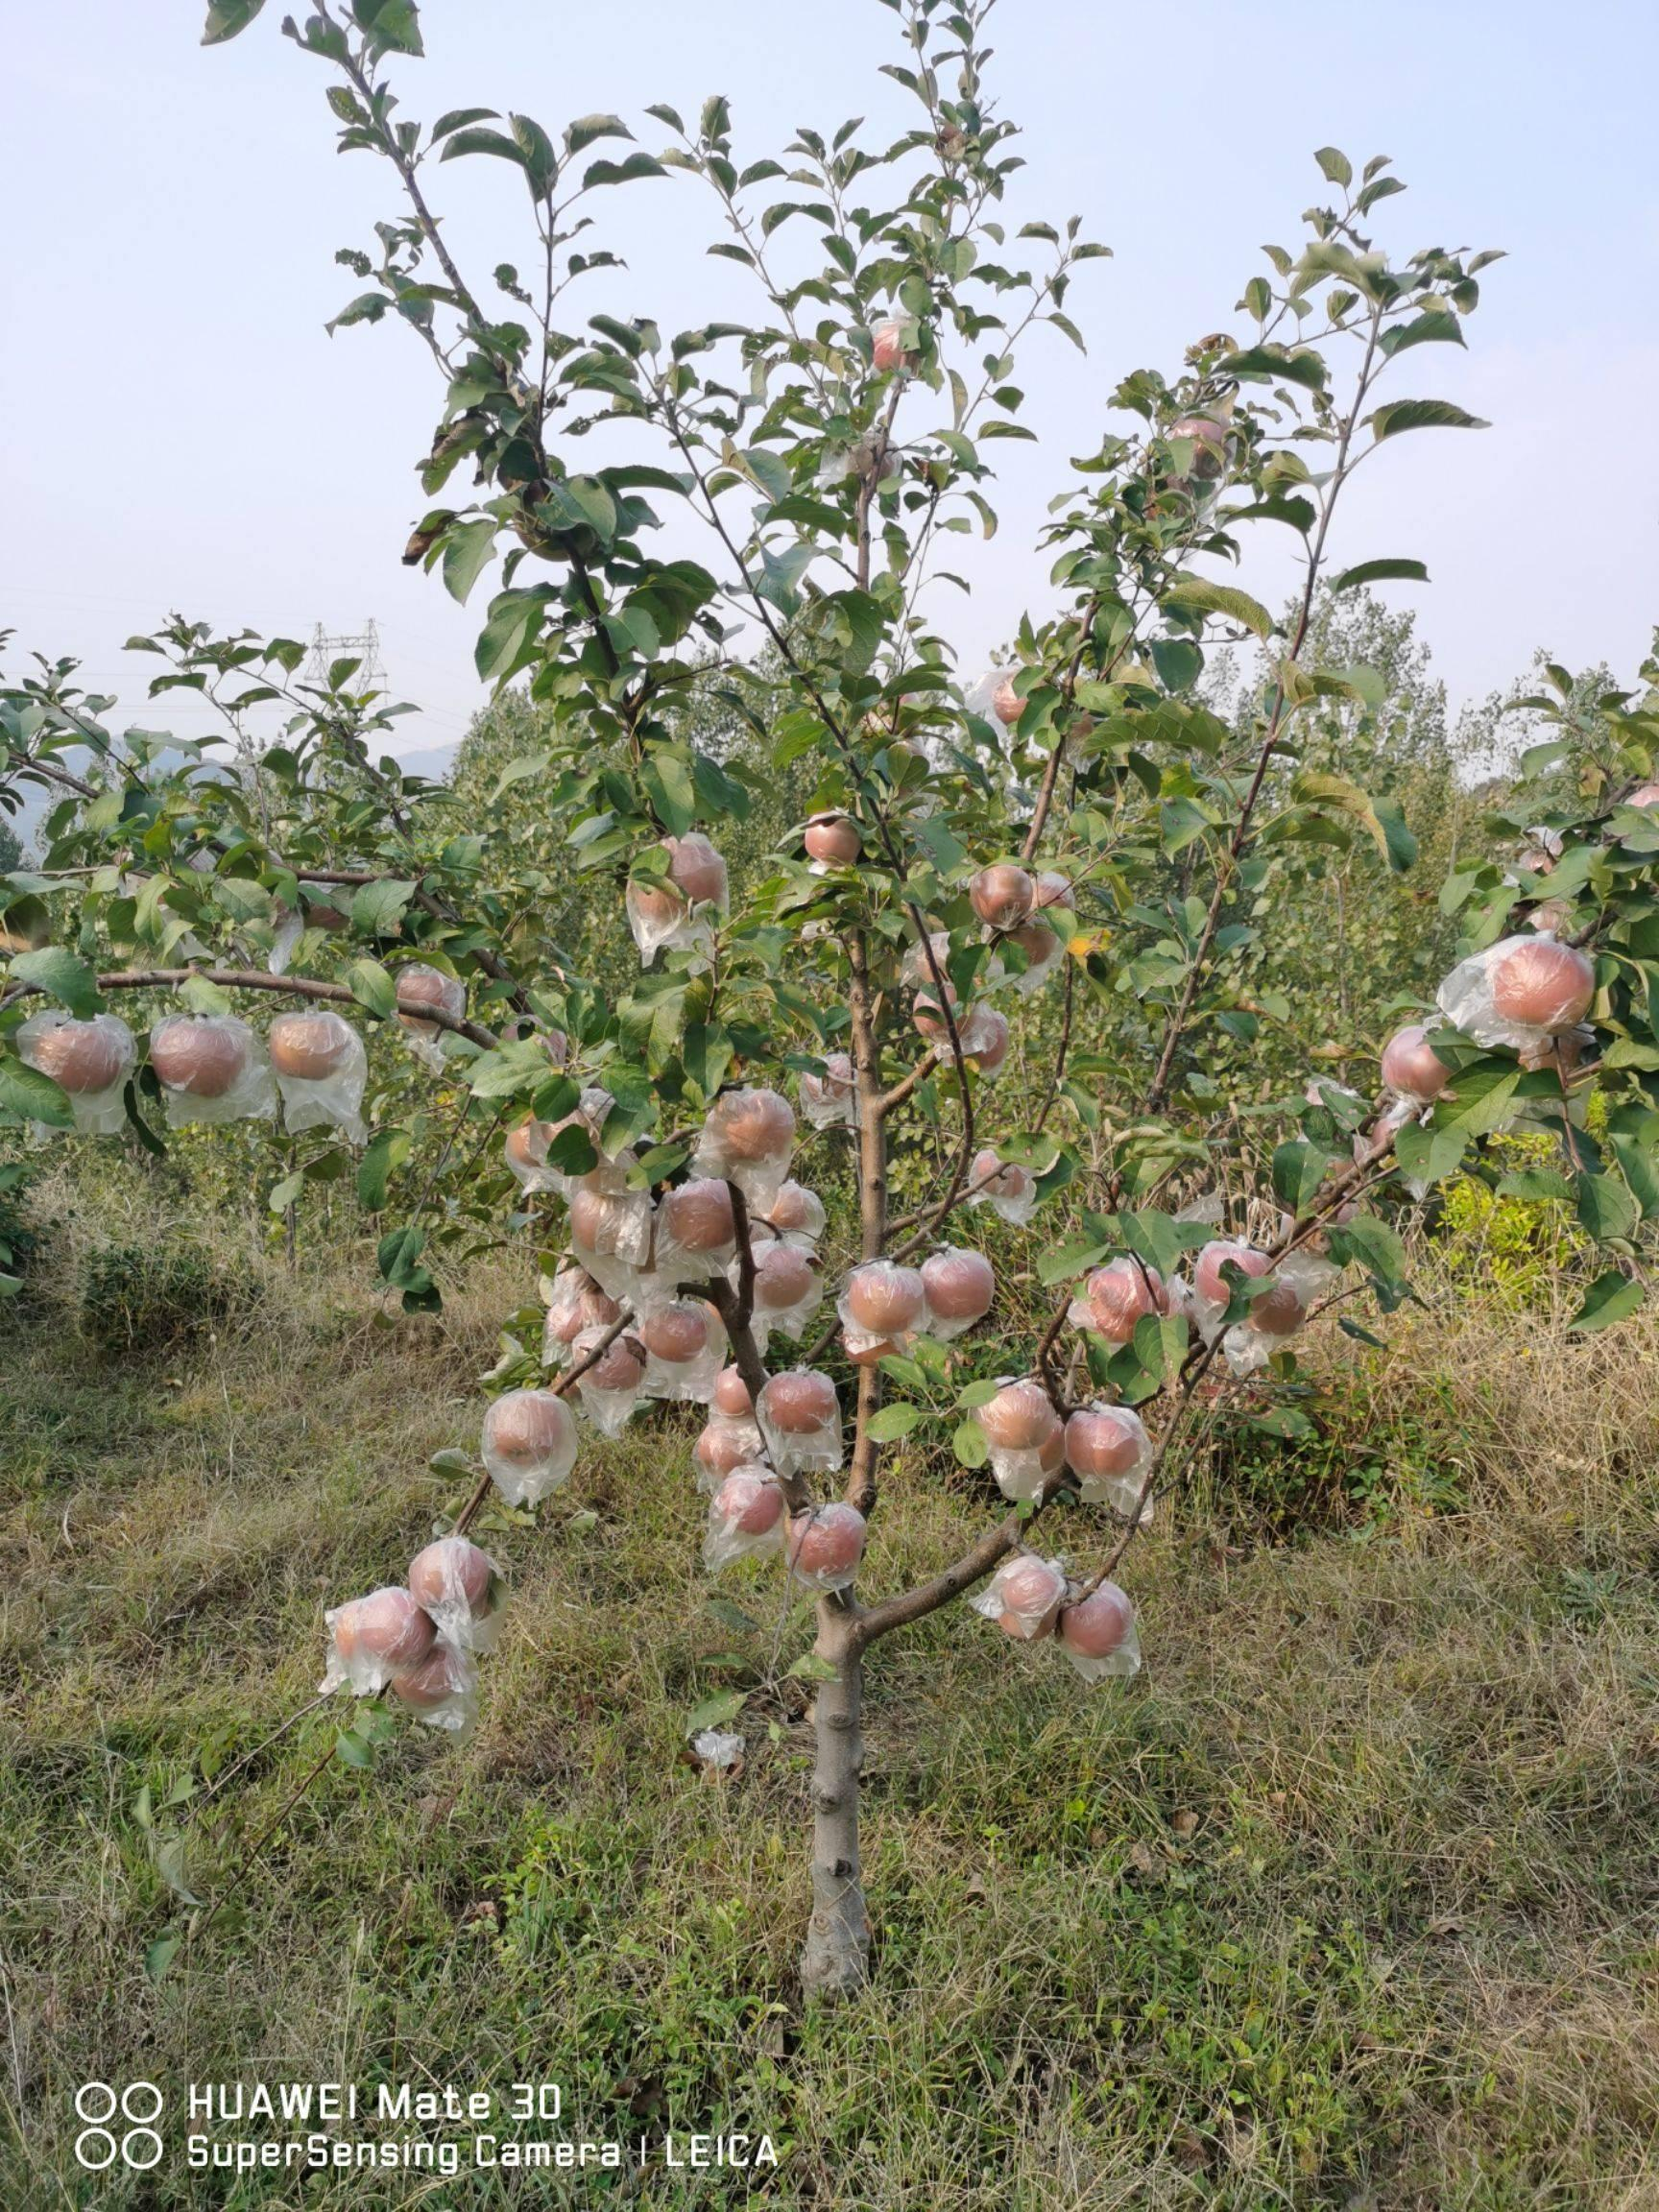apple: (1485, 937, 1588, 1028), (1089, 1264, 1171, 1350), (1194, 1242, 1277, 1313), (713, 1094, 795, 1165), (488, 1393, 568, 1465), (641, 1289, 721, 1360), (976, 1381, 1058, 1451), (568, 1324, 648, 1393), (267, 1007, 347, 1076), (355, 1588, 436, 1658), (638, 841, 718, 911), (45, 1019, 125, 1089), (657, 1184, 737, 1254), (843, 1268, 924, 1338), (741, 1238, 821, 1308), (568, 1177, 648, 1247), (157, 1024, 237, 1094), (988, 1555, 1068, 1625), (1072, 1409, 1152, 1477), (1051, 1585, 1129, 1653), (922, 1249, 997, 1318), (1385, 1029, 1459, 1097), (798, 1505, 863, 1576), (769, 1367, 833, 1437), (720, 1465, 784, 1534), (969, 860, 1032, 930)
